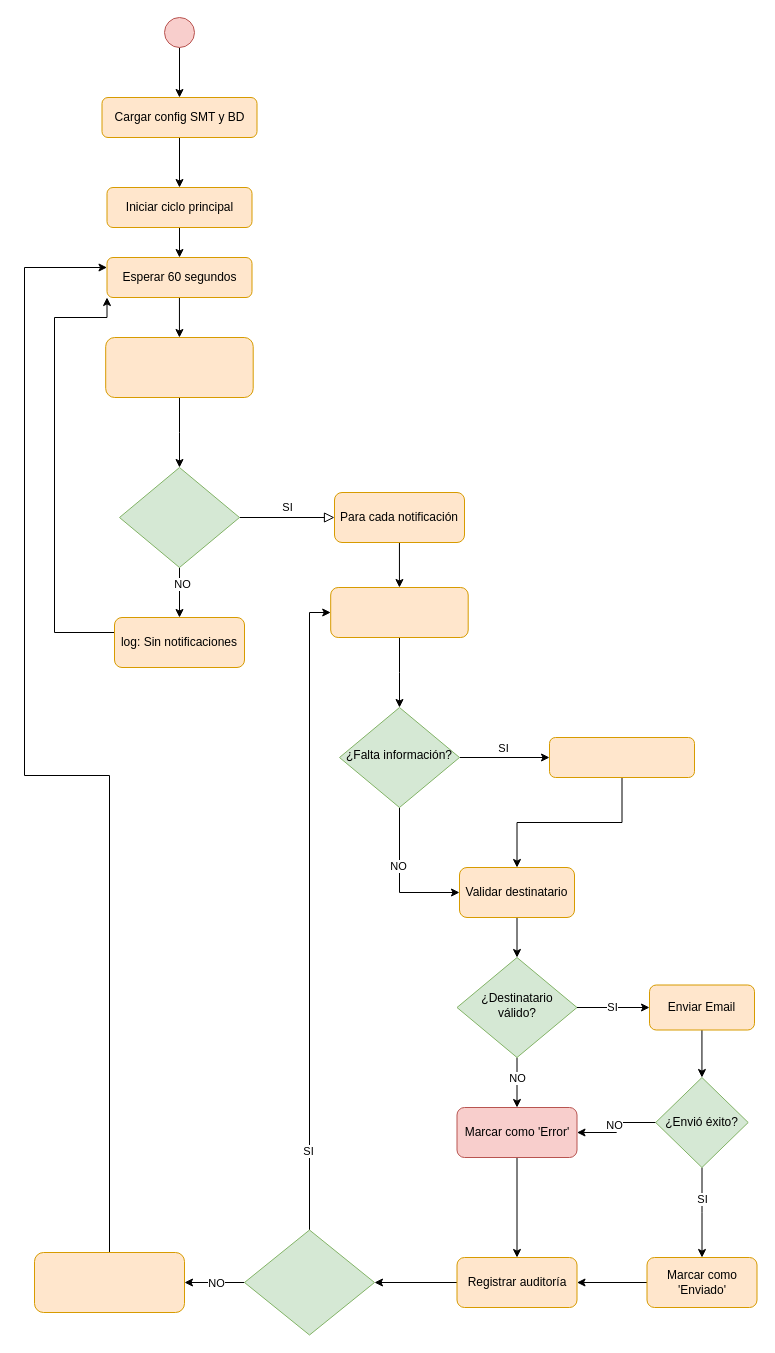
Some shapes in this 775 by 1353 pixel diagram are drawn without their labels. The centre of each missing label's shape, as x and y in pixels:
"Buscar notificaciones pendientes" goes at [179,367].
"Completar desde Notificaciones_Tipo" goes at [621,757].
"log: Procesamiento completo" goes at [109,1282].
"Tomar notificación siguiente" goes at [399,612].
"¿Hay más notificaciones?" goes at [309,1282].
"¿Hay notificaciones?" goes at [179,517].
